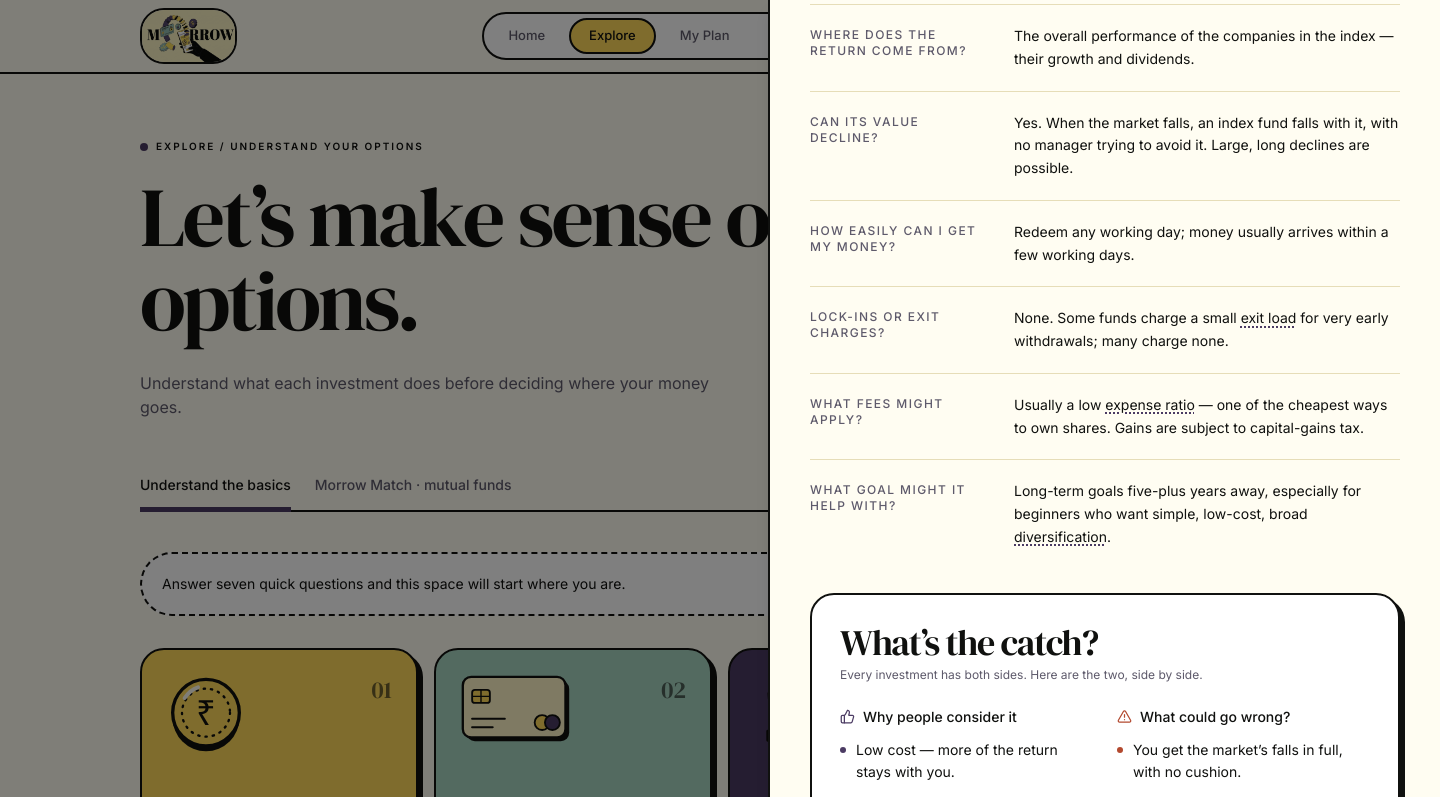
Test case: Investment Explorer › opens plain-language definitions from the glossary and from inline terms
The width and height of the screenshot is (1440, 797).
(page scrolled)
What coordinates should you click on to do the following:
click the button with aria-label "What is Expense ratio?"
I would click on:
 (1150, 405)
Its box is left=1105, top=394, right=1195, bottom=417.
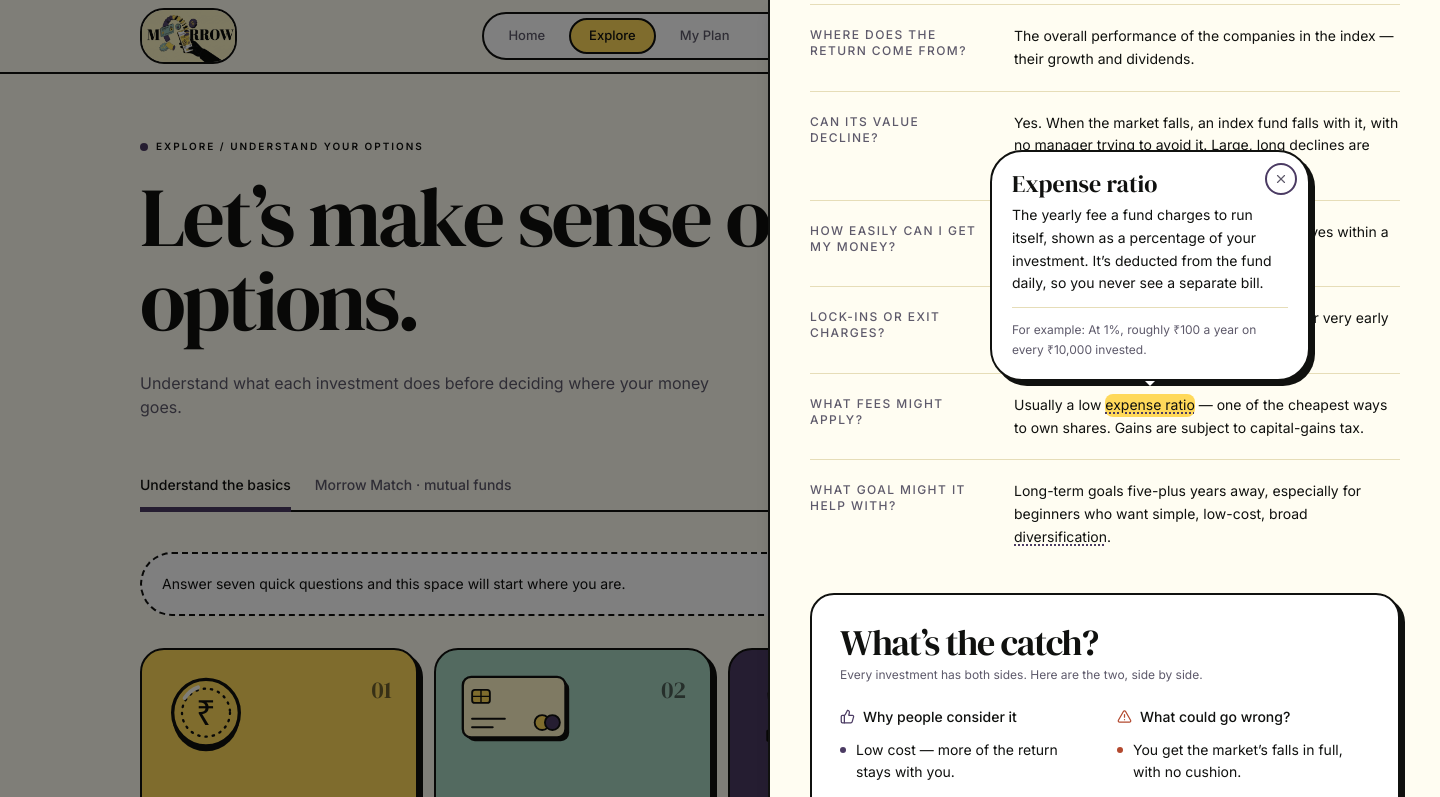
Expected: the text "The yearly fee a fund charges to run itself, shown as a percentage of your investment. It’s deducted from the fund daily" is shown, left=1012, top=206, right=1272, bottom=291
